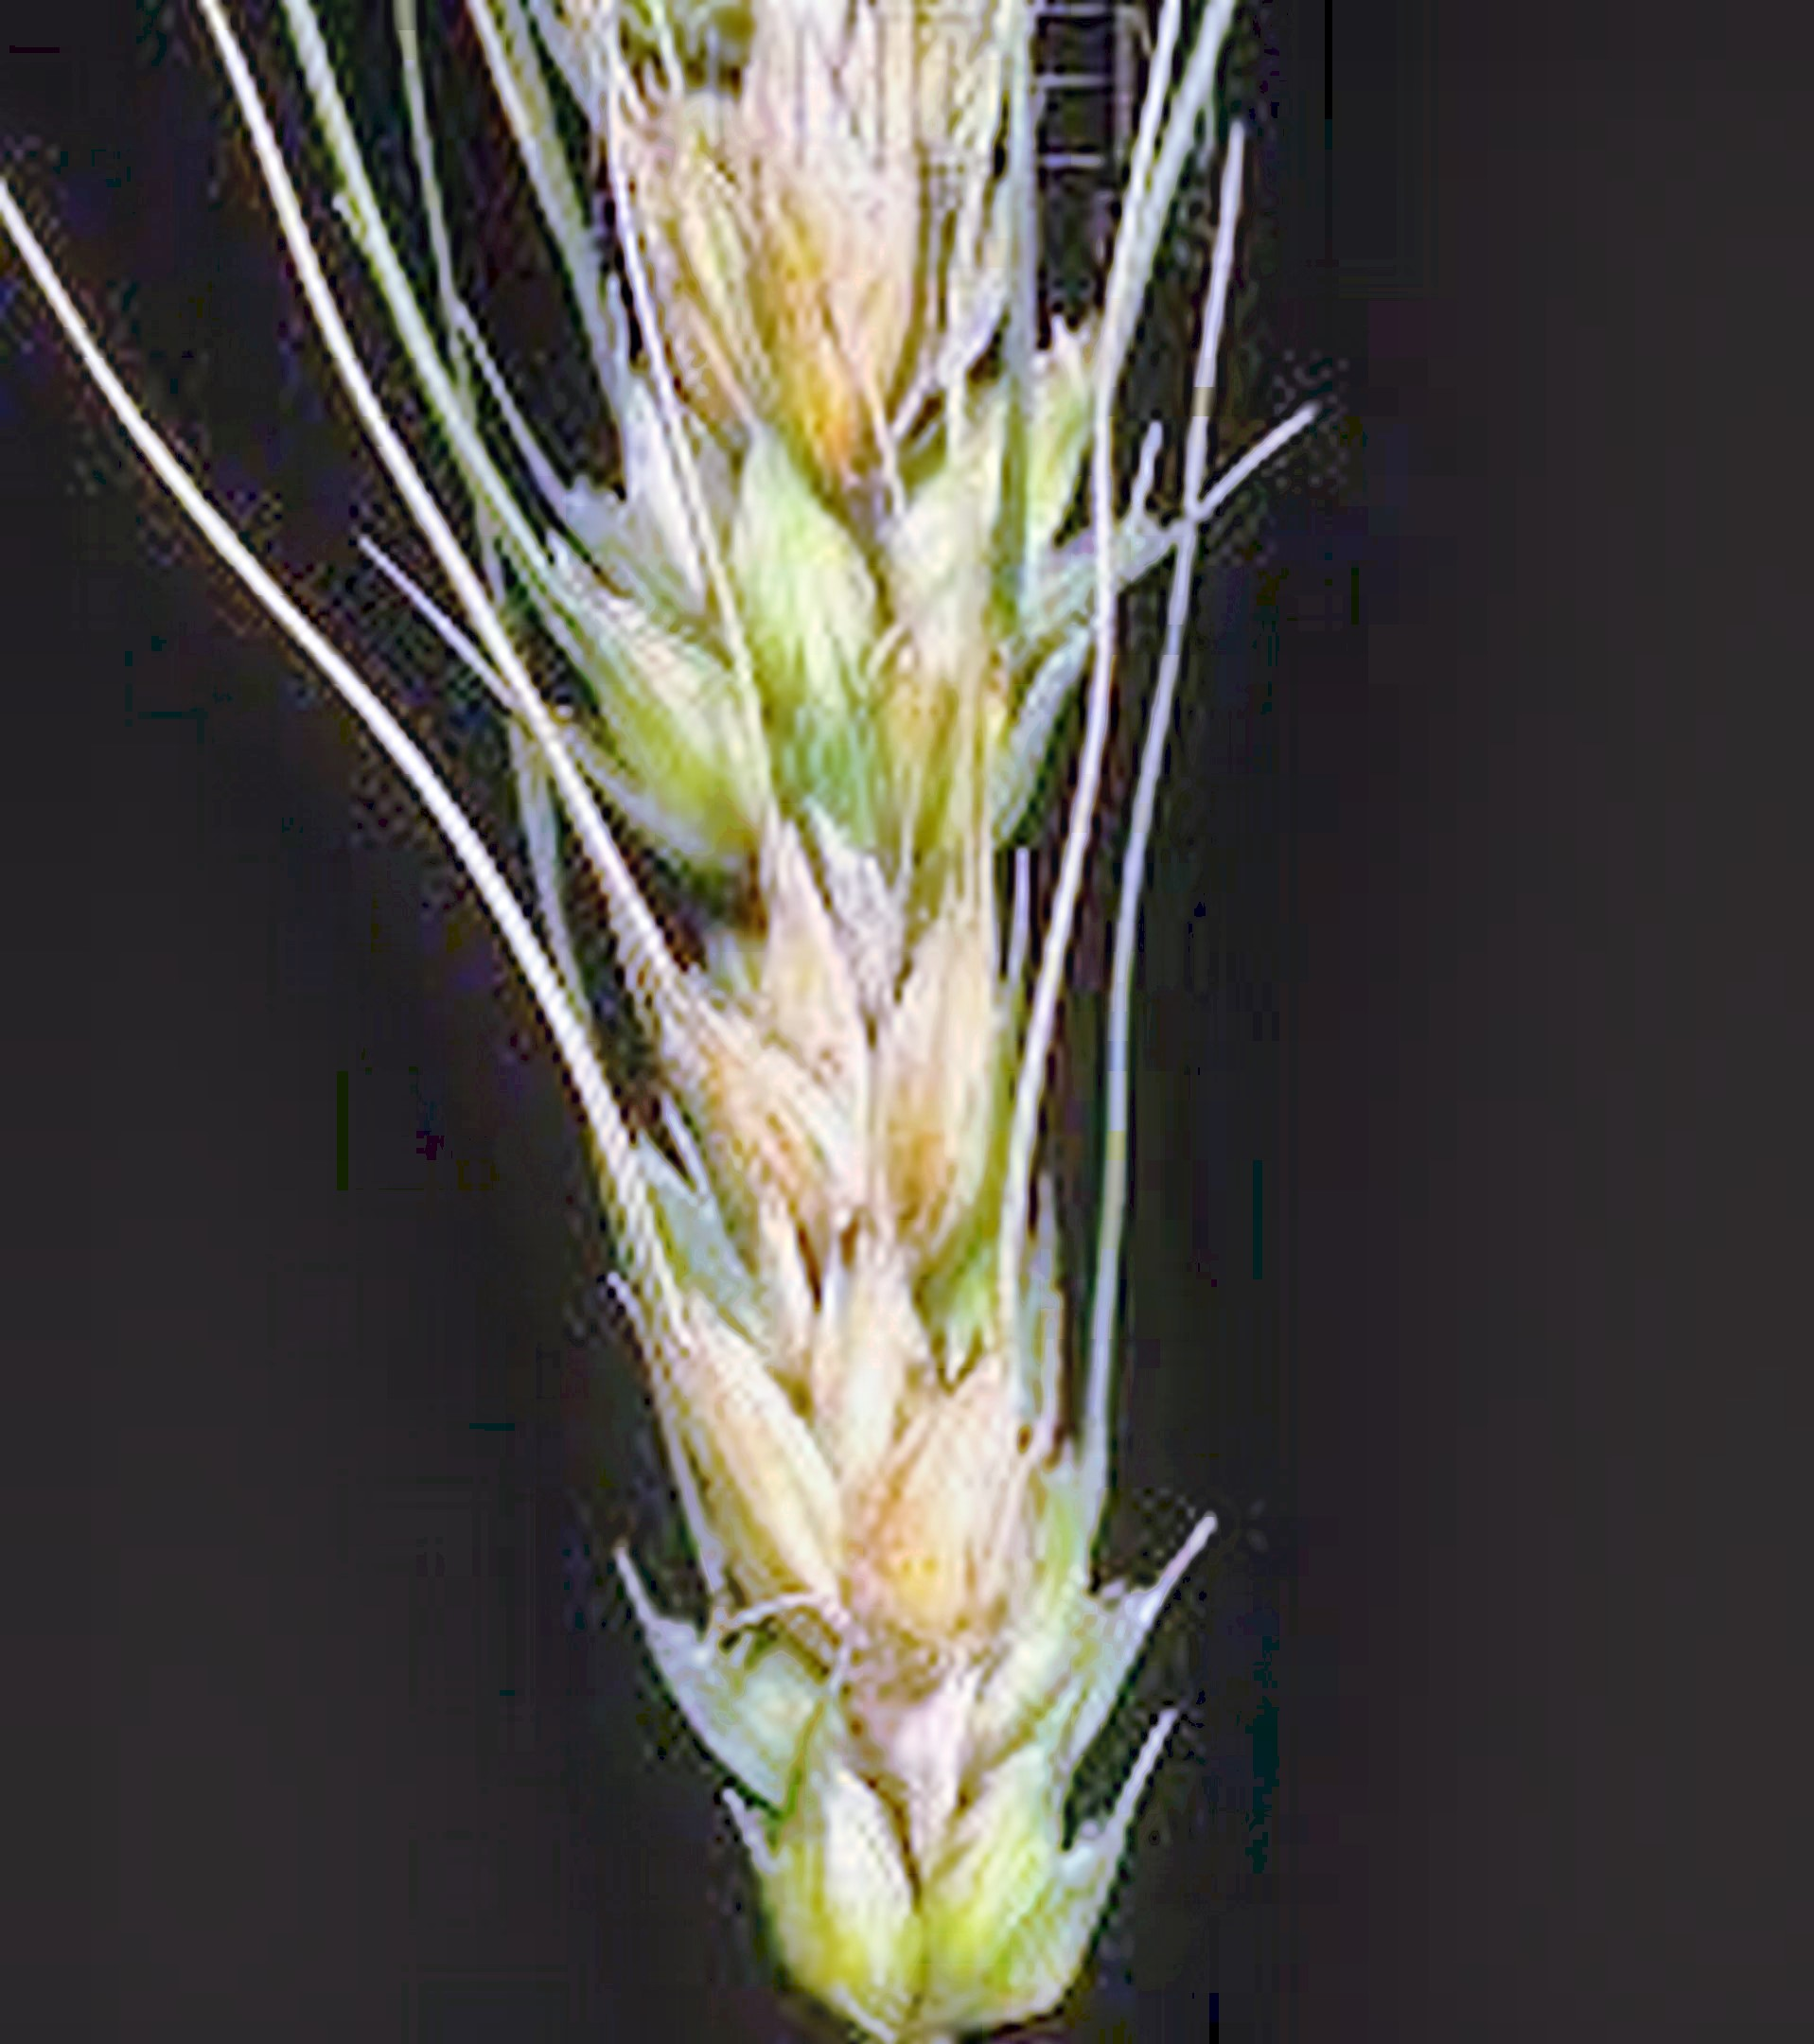Wheat scab: (429, 33, 1157, 1970)
